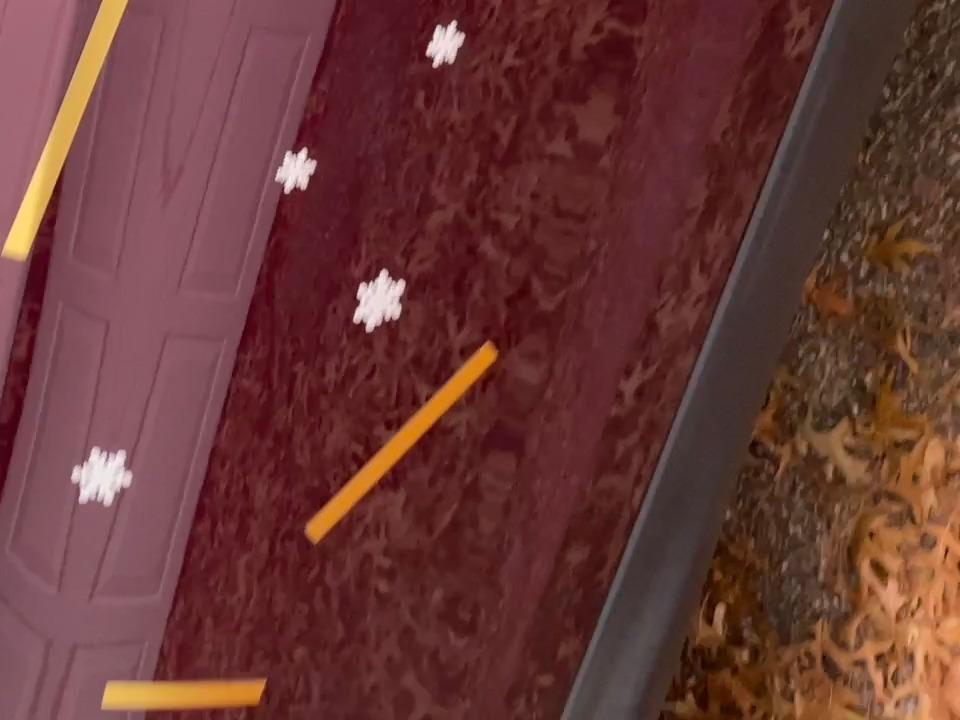dent: (61, 441, 148, 515), (339, 259, 417, 336), (416, 11, 477, 85), (271, 136, 331, 211)
scratch: (3, 0, 225, 270), (296, 329, 505, 544), (101, 651, 279, 720)
